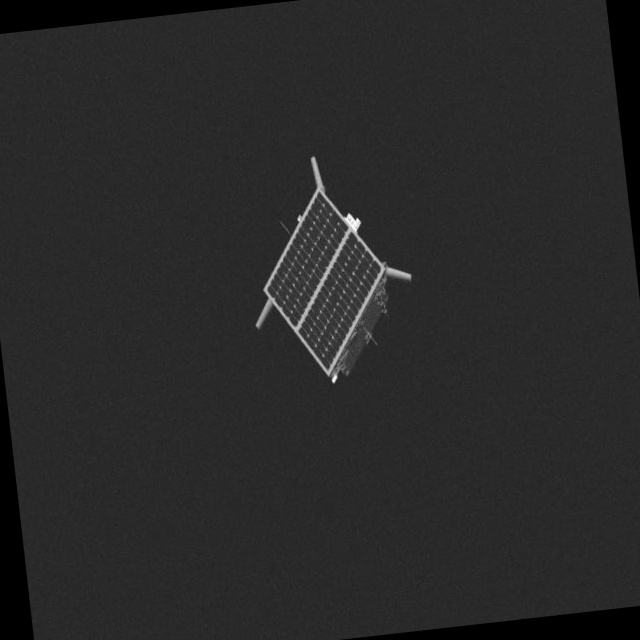medium_debris: (216, 144, 428, 389)
